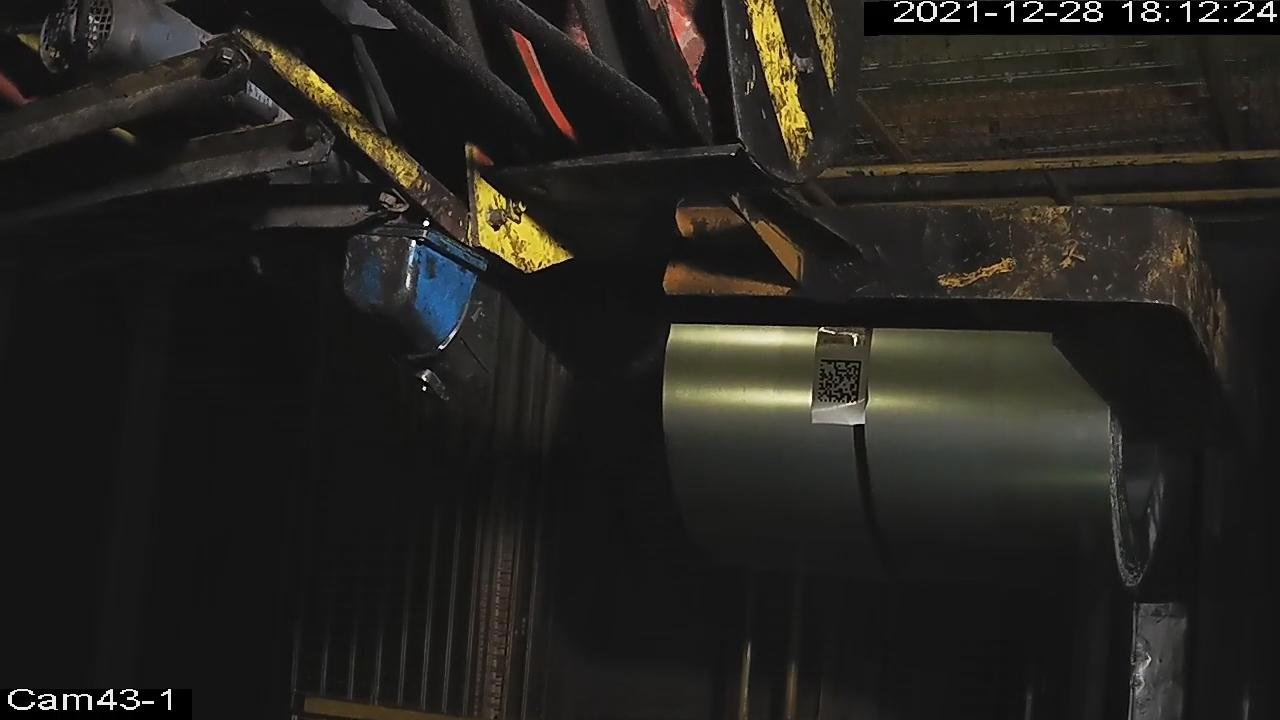data matrix: (815, 358, 864, 408)
